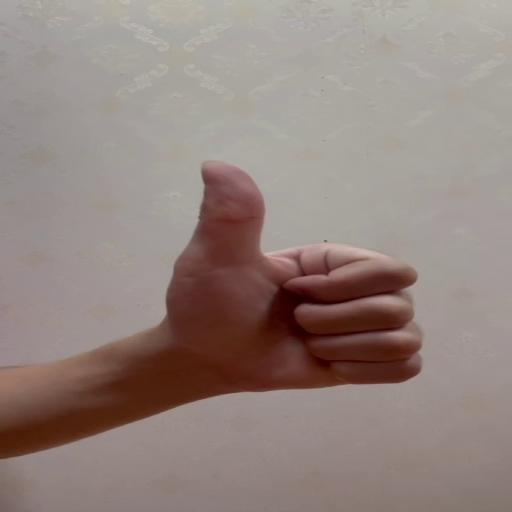thumbs_up: (165, 158, 428, 395)
